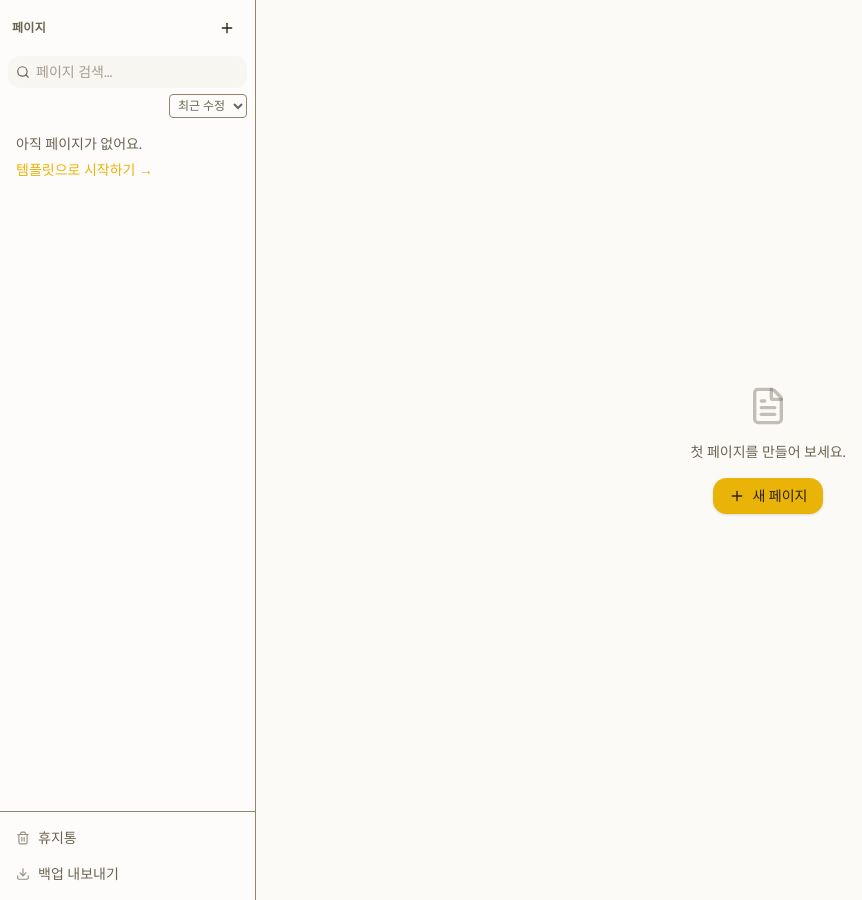
Scenario: PageWorkspace — 새 페이지 생성 › 생성이 실패하면 actionError를 보여준다
Step 1. Click the button "새 페이지" → [768, 496], box [712,478,823,514]
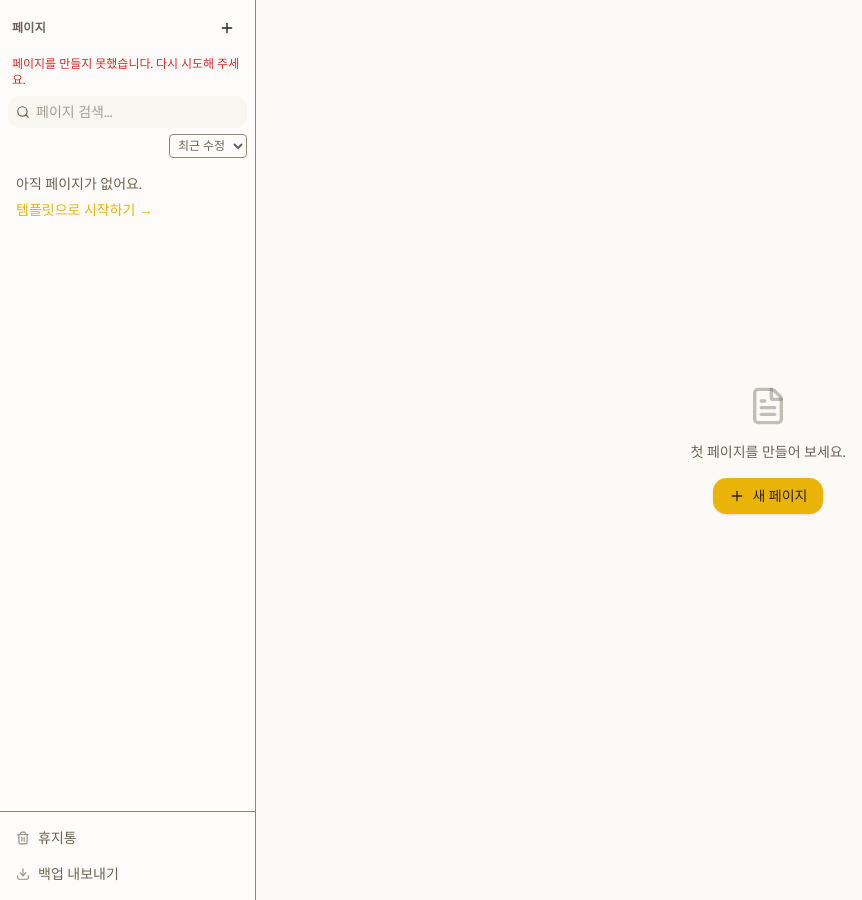
Now the text "페이지를 만들지 못했습니다. 다시 시도해 주세요." is shown, box [0,56,255,96]
